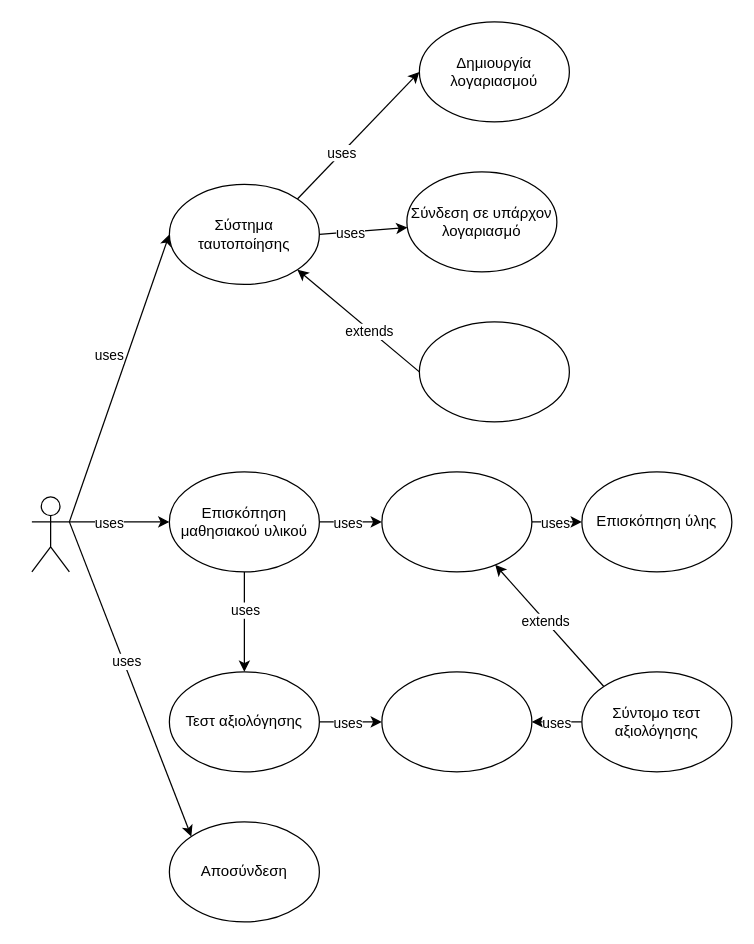
Some shapes in this 754 by 944 pixel diagram are drawn without their labels. The shapes that lost their labels are listed below. From the top down, each one's centre as x and y in pixels, then its label:
point (493, 371): Ανάκτηση χαμένου κωδικού
point (50, 534): Μαθητής
point (456, 521): Επιλογή μαθήματος προπαίδειας
point (456, 721): Αξιολόγηση επιδόσεων
